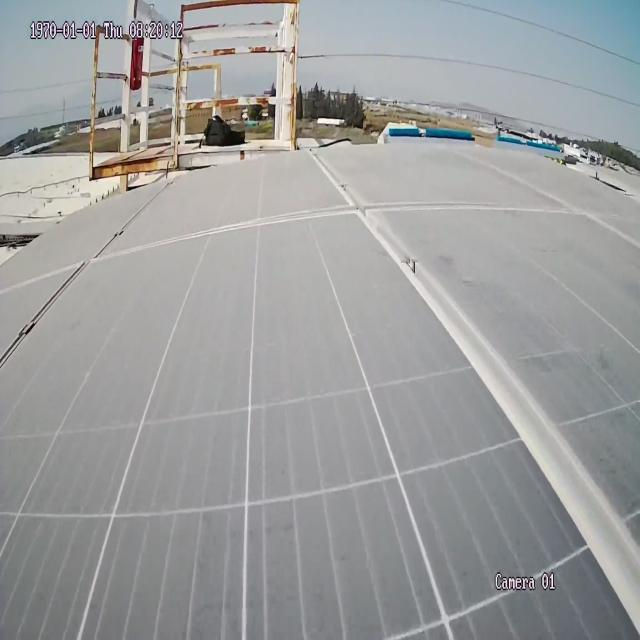interior panel: (307, 154, 638, 636), (0, 184, 177, 370)
outher panel: (1, 226, 46, 290)
